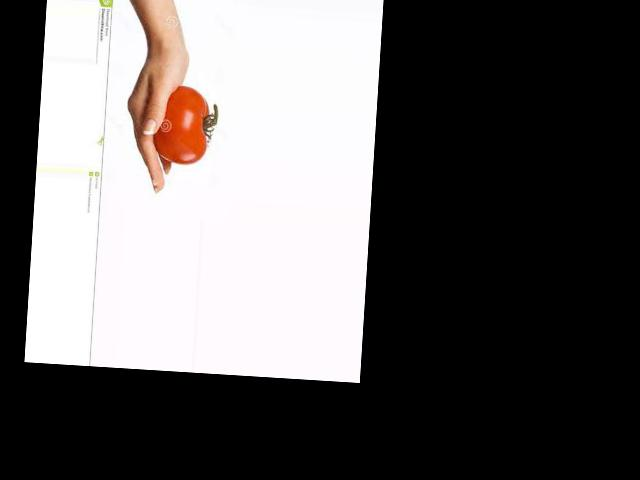tomato: (152, 84, 210, 166)
